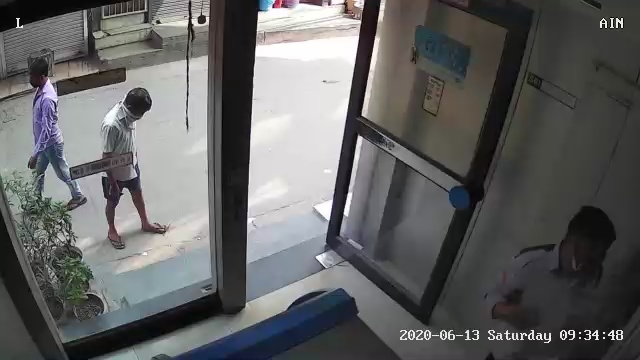open: (313, 3, 546, 325)
